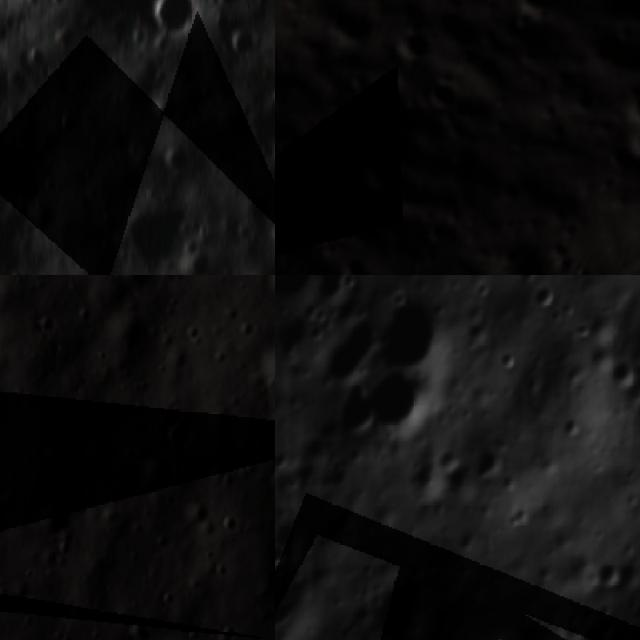crater: (0, 98, 68, 275), (366, 280, 466, 385), (352, 353, 443, 449), (351, 560, 446, 640), (127, 195, 188, 273), (40, 0, 194, 30), (462, 437, 514, 489), (299, 275, 359, 312), (584, 552, 628, 602), (243, 346, 275, 413), (149, 0, 200, 41), (275, 581, 306, 637), (226, 27, 267, 67), (523, 275, 563, 313), (328, 259, 419, 275), (151, 90, 187, 126), (622, 573, 640, 631), (168, 140, 194, 180), (482, 625, 536, 640), (113, 275, 152, 292), (509, 275, 549, 291), (210, 0, 256, 12)
